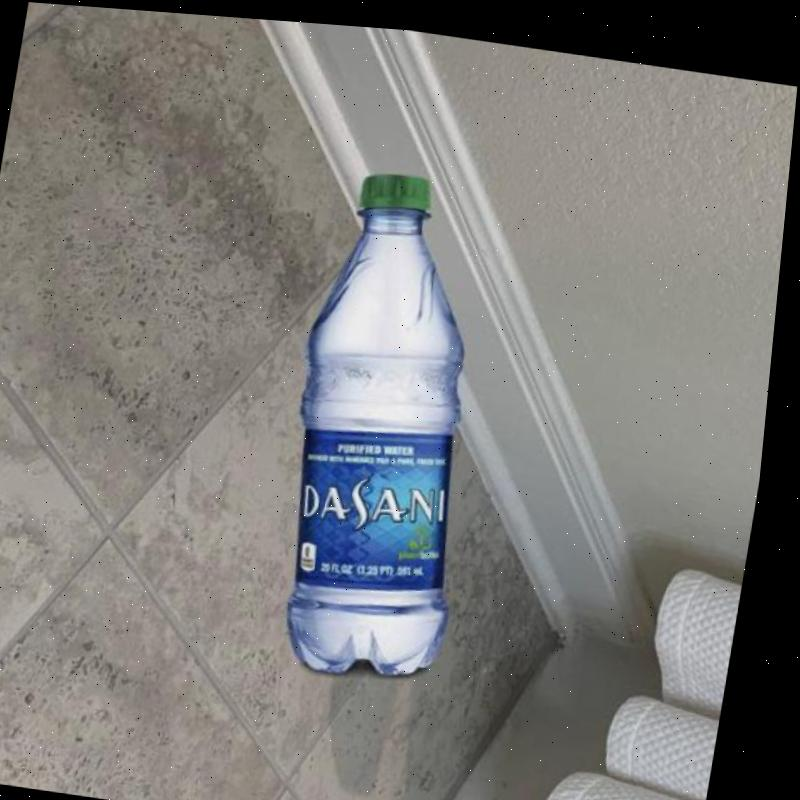botella: (266, 158, 523, 684)
